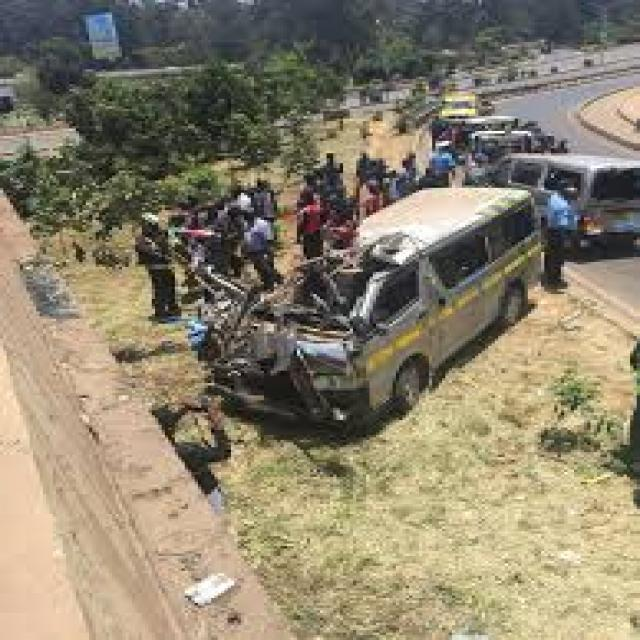accident: (165, 174, 567, 467)
